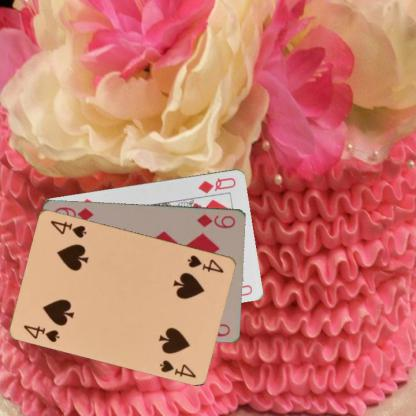4s: (185, 252, 225, 274), (21, 322, 61, 344)
9d: (194, 211, 237, 229)
Qd: (196, 174, 238, 194)
